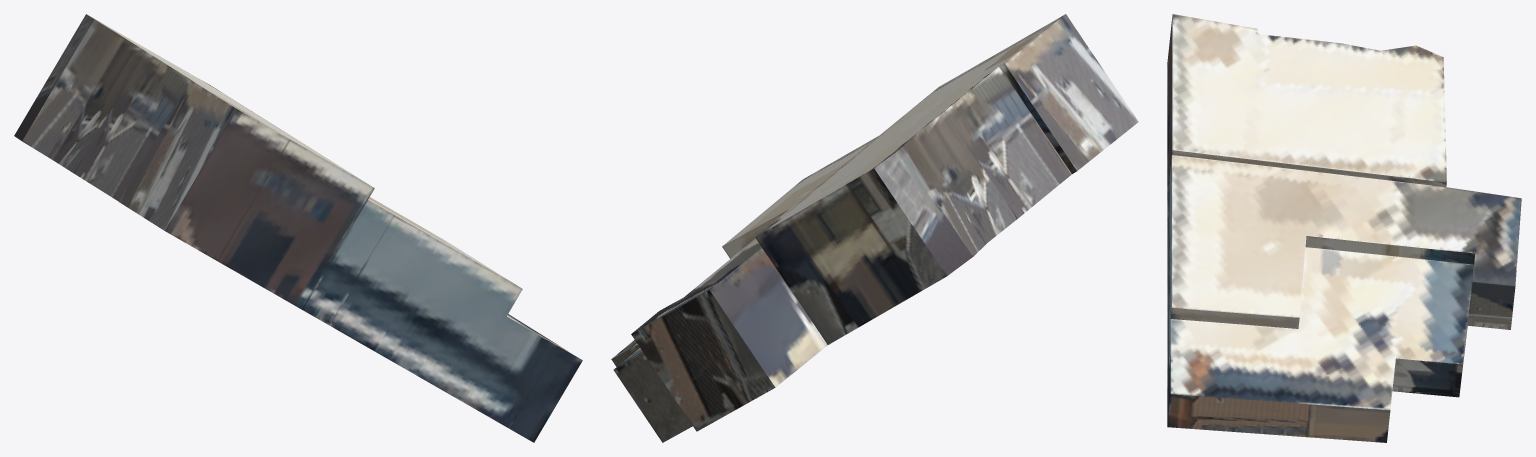
The picture shows the model from 3 angles, left to right: view 1: azimuth 30°, elevation 25°; view 2: azimuth 150°, elevation 25°; view 3: azimuth 270°, elevation 25°; orthographic projection. The views are drawn at different scales.
Parts seen in each view (by area): view 1: BAG_0599100000760489 (×5); view 2: BAG_0599100000760489 (×5); view 3: BAG_0599100000760489 (×5).
Boxes of the visible parts, x1,y1,x2,y2 form: BAG_0599100000760489 (×5): [14, 14, 582, 442]; BAG_0599100000760489 (×5): [611, 14, 1138, 442]; BAG_0599100000760489 (×5): [1167, 14, 1521, 442].
Bounding box in the file's own units: 26.87 × 25.56 × 25.73.
Materials: 5 (5 with a texture image).
